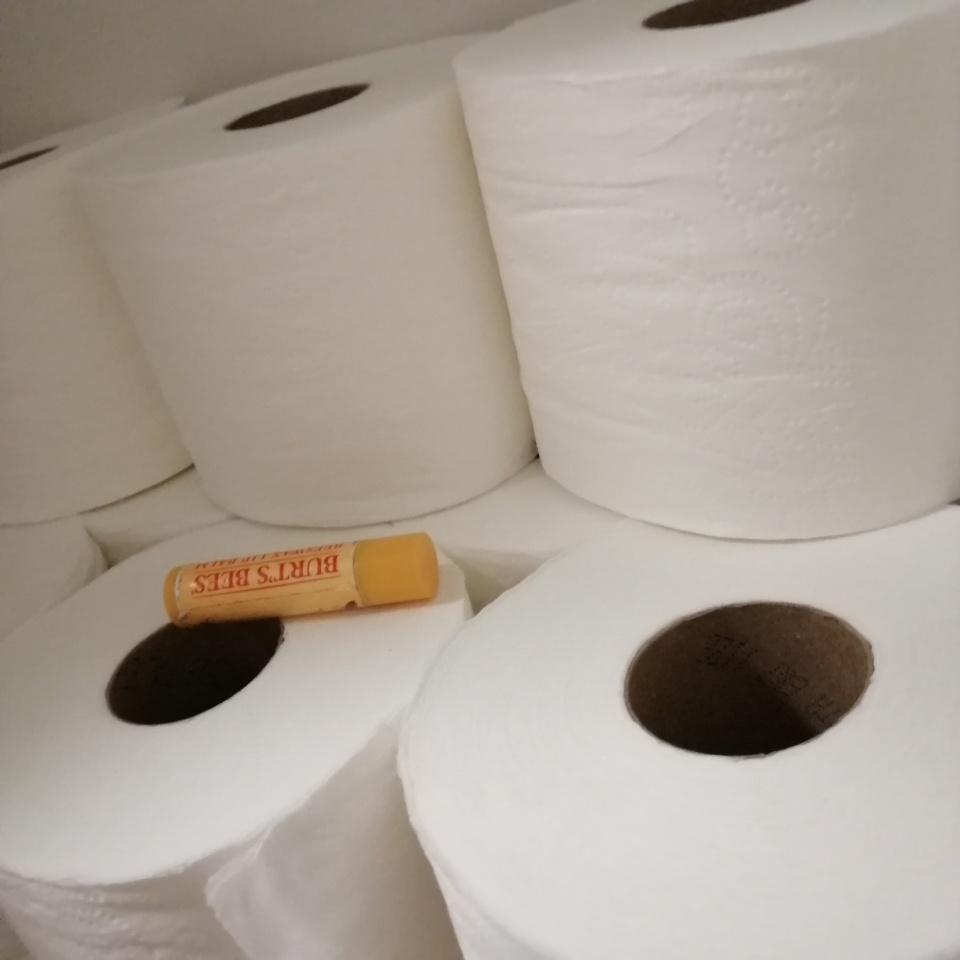chapstick: (163, 531, 440, 628)
